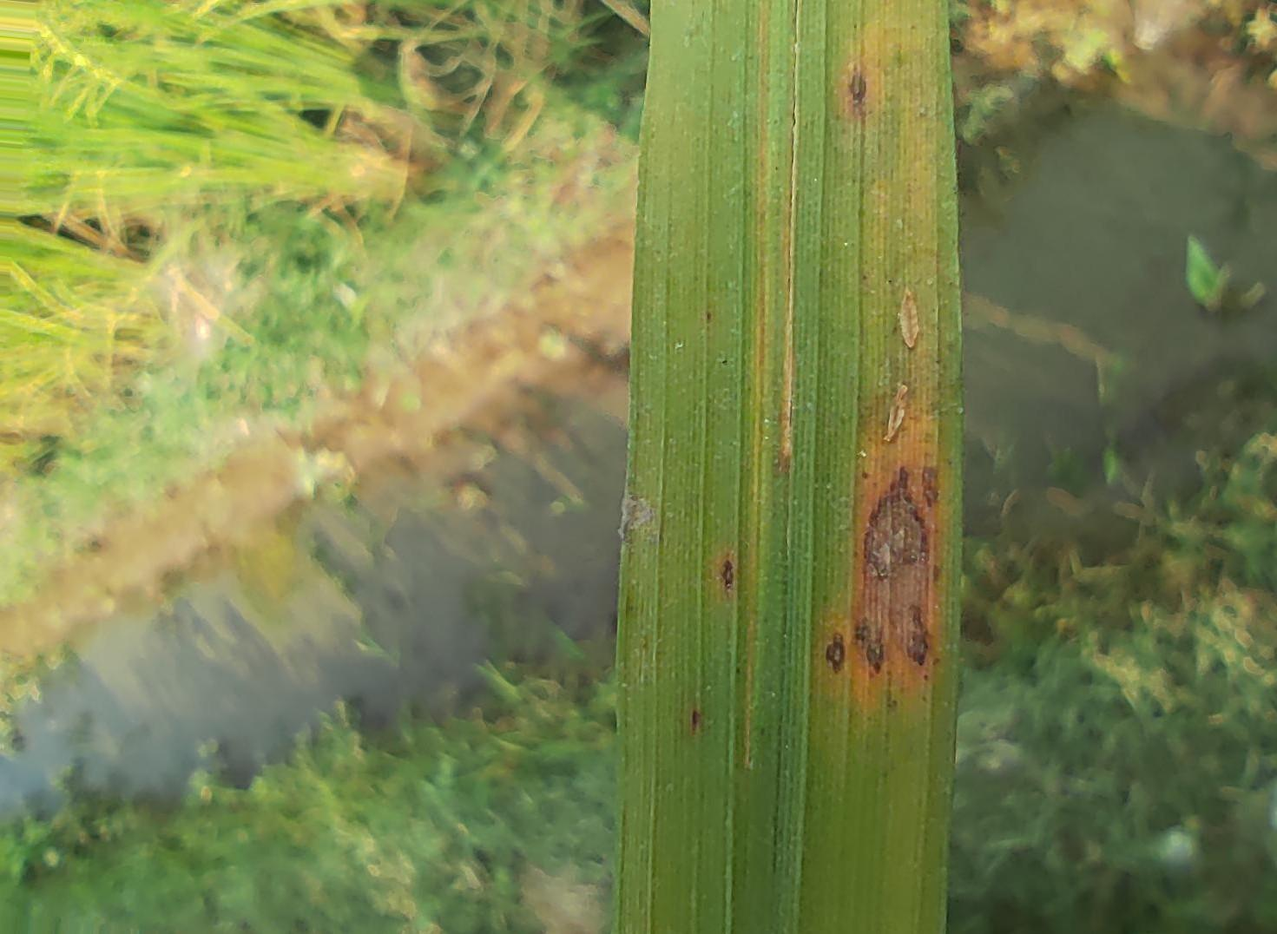LEAF: (617, 0, 963, 933)
LEAF BLAST: (823, 457, 945, 694), (714, 548, 741, 602), (848, 63, 867, 105)
